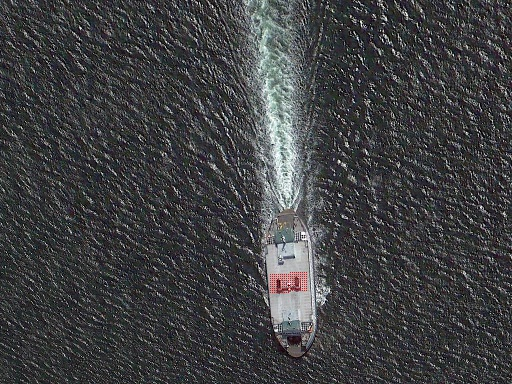ship: (262, 207, 319, 360)
